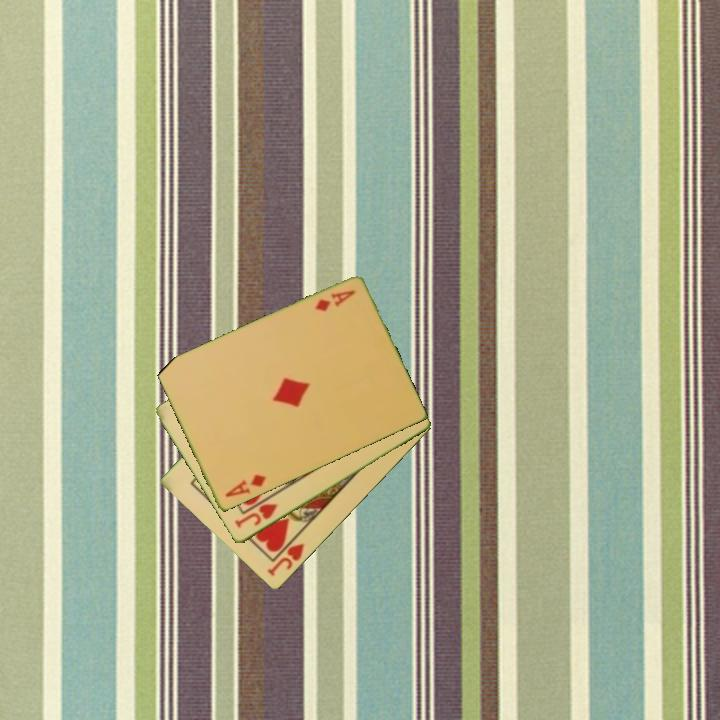Ad: (221, 471, 269, 500), (311, 286, 358, 315)
Jh: (263, 530, 307, 579), (231, 500, 280, 531)
